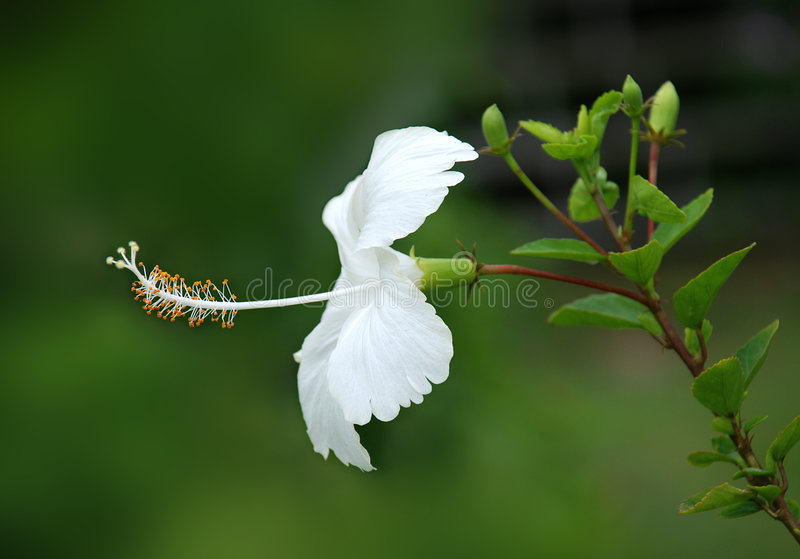Hibiscus: (56, 126, 531, 487), (616, 35, 683, 205), (446, 84, 528, 177)
